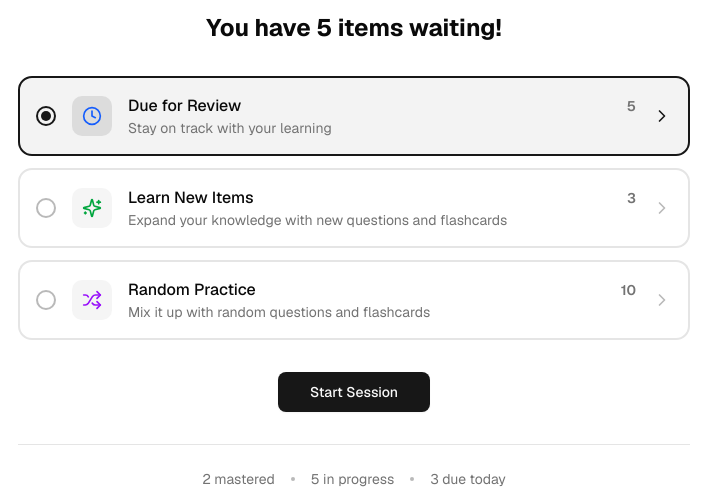
Test: ReviewInterface › flashcard review flow › shows flashcard front and flip instruction
Click the button "Start Session" at point(354, 392), box [278,372,430,412]
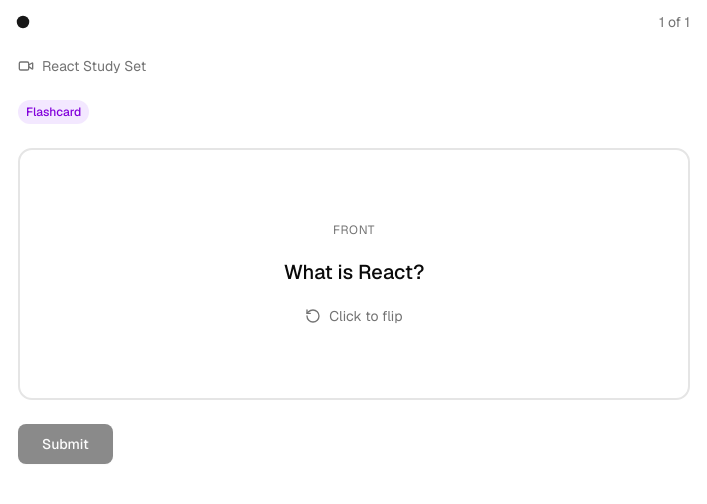
Now the text "What is React?" is shown, box [284,258,424,286]
Now the text "Click to flip" is shown, box [305,306,403,326]
Now the text "Front" is shown, box [333,222,375,238]
